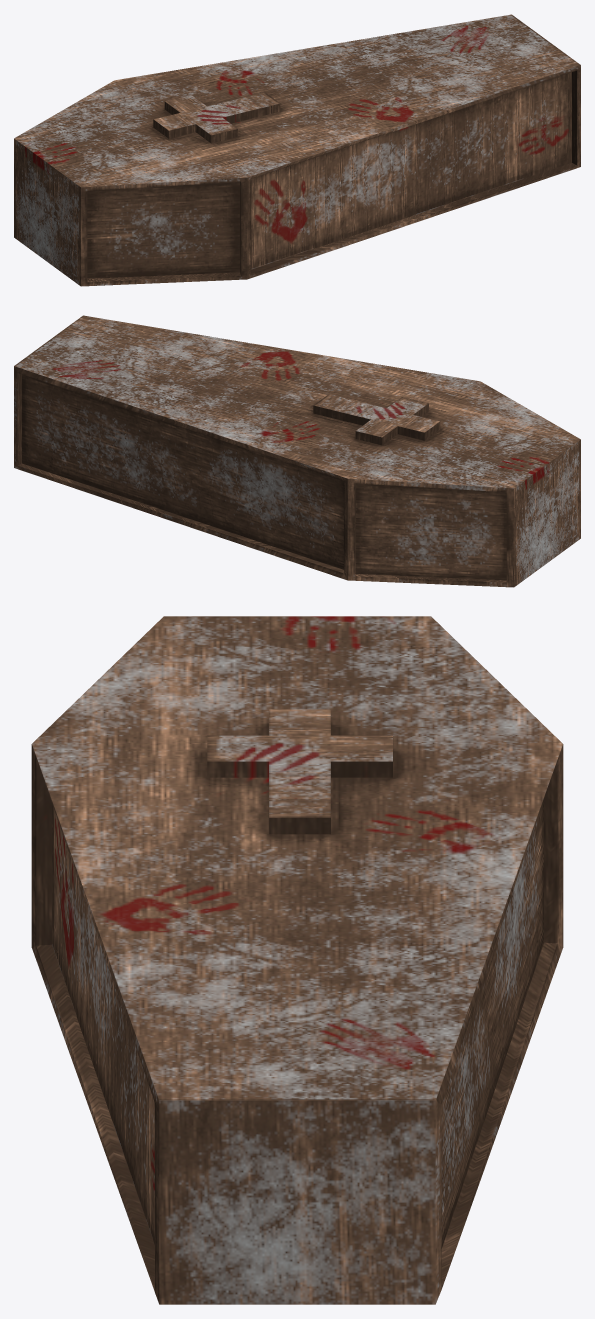
File: grave.glb
The picture shows the model from 3 angles, top to bottom: view 1: azimuth 30°, elevation 25°; view 2: azimuth 150°, elevation 25°; view 3: azimuth 270°, elevation 25°; orthographic projection. The views are drawn at different scales.
Parts seen in each view (by area): view 1: Cube.002_0, Cube.004_2; view 2: Cube.002_0, Cube.004_2; view 3: Cube.002_0, Cube.004_2.
Boxes of the visible parts, x1,y1,x2,y2 form: Cube.002_0: (14,14,580,286); Cube.004_2: (153,92,280,143); Cube.002_0: (14,315,580,587); Cube.004_2: (313,394,440,445); Cube.002_0: (31,616,563,1304); Cube.004_2: (207,709,392,834).
Size of the model in its own units: 10.14 by 2.14 by 4.68.
Materials: 1 (1 with a texture image).
